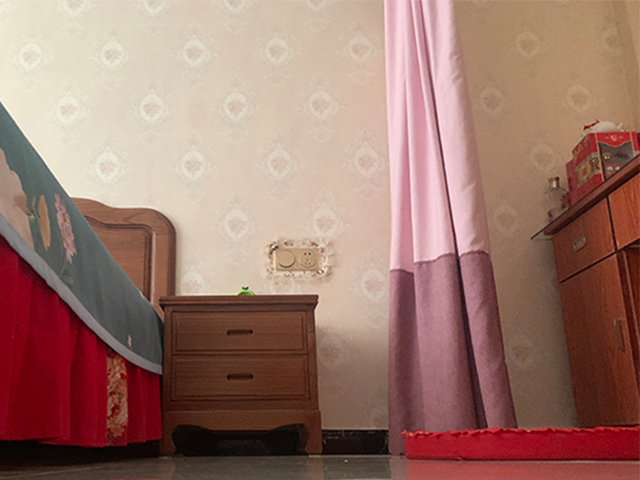bed: (1, 100, 176, 449)
cabinet: (158, 293, 324, 455)
curtain: (383, 1, 519, 457)
table: (531, 153, 640, 429)
